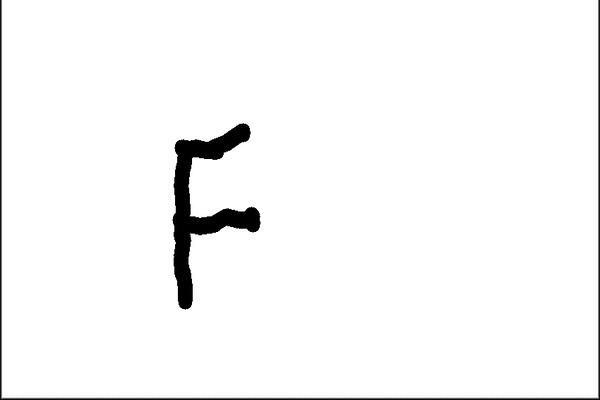F: (161, 116, 264, 313)
